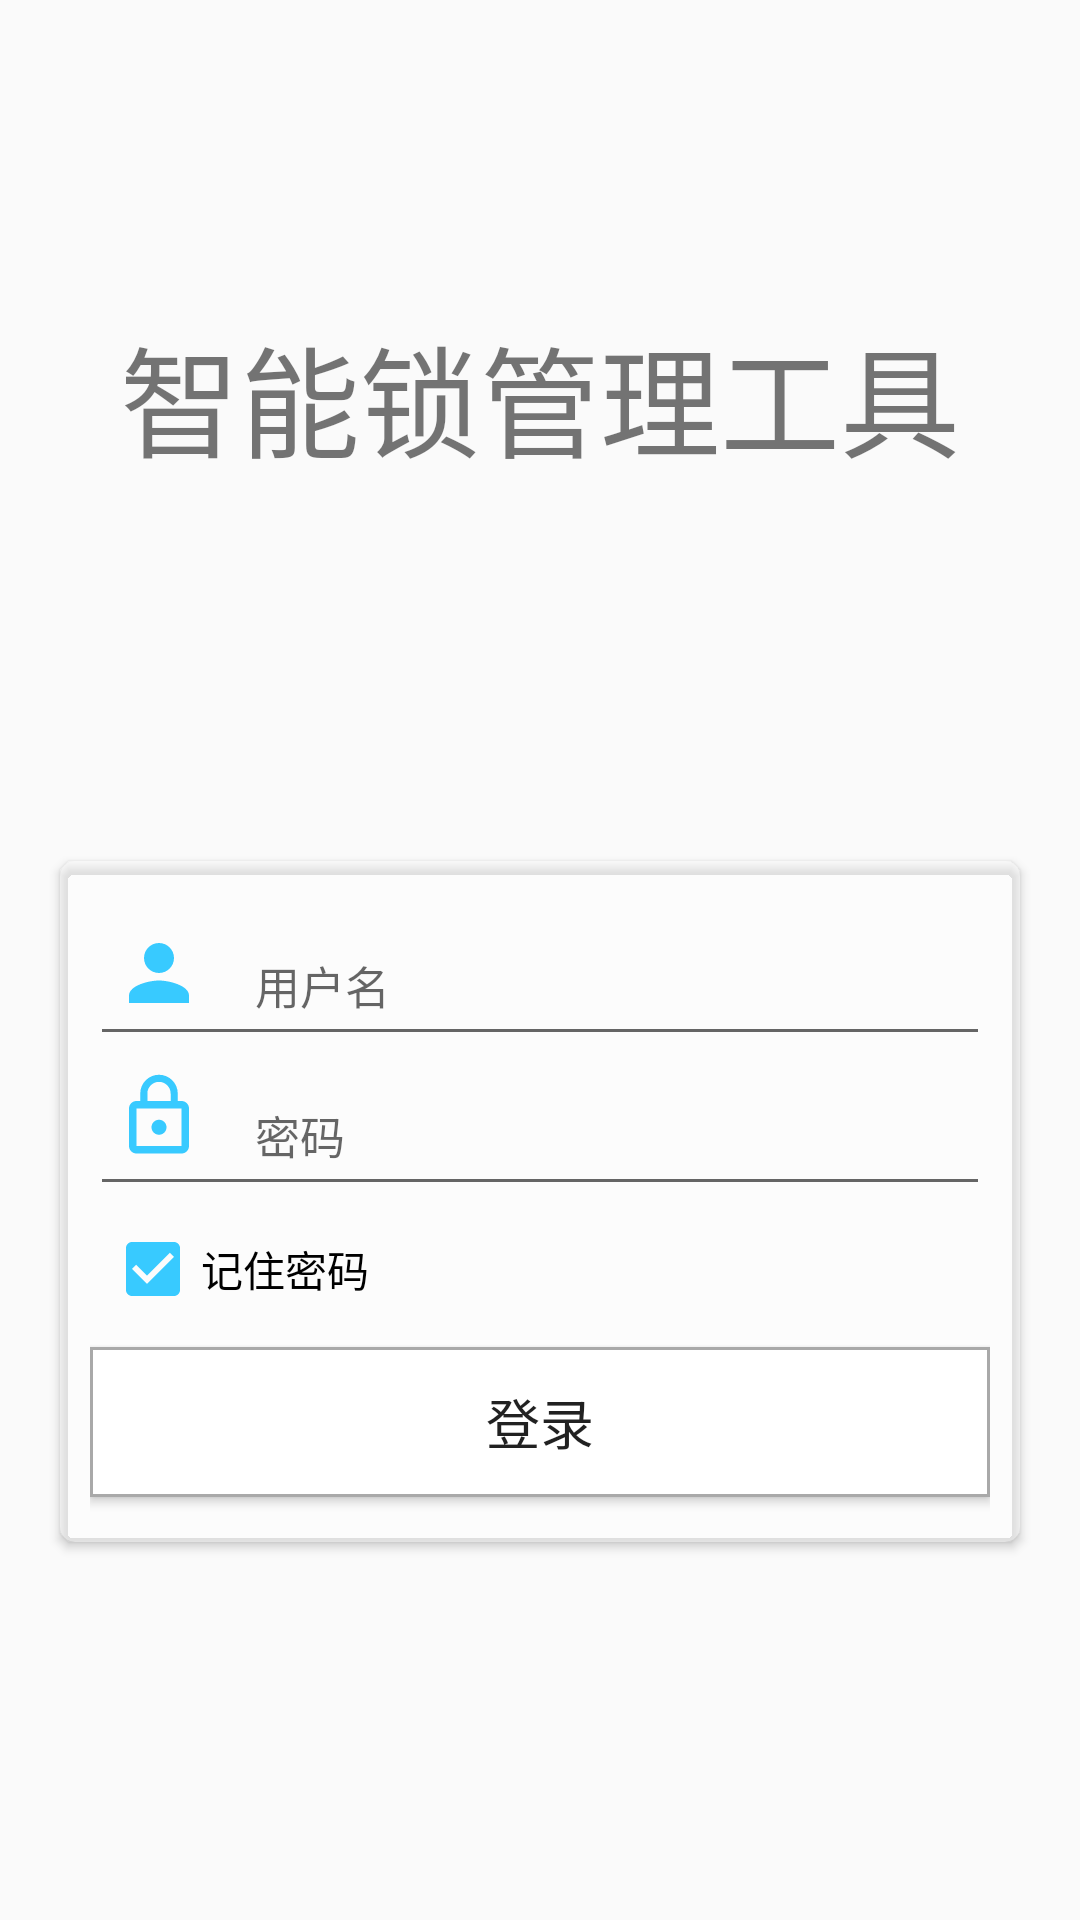

Icons on this 1080px x 1920px Android screen, each with the point to tap as point (x, y):
account: point (159, 973)
lock: point (159, 1114)
